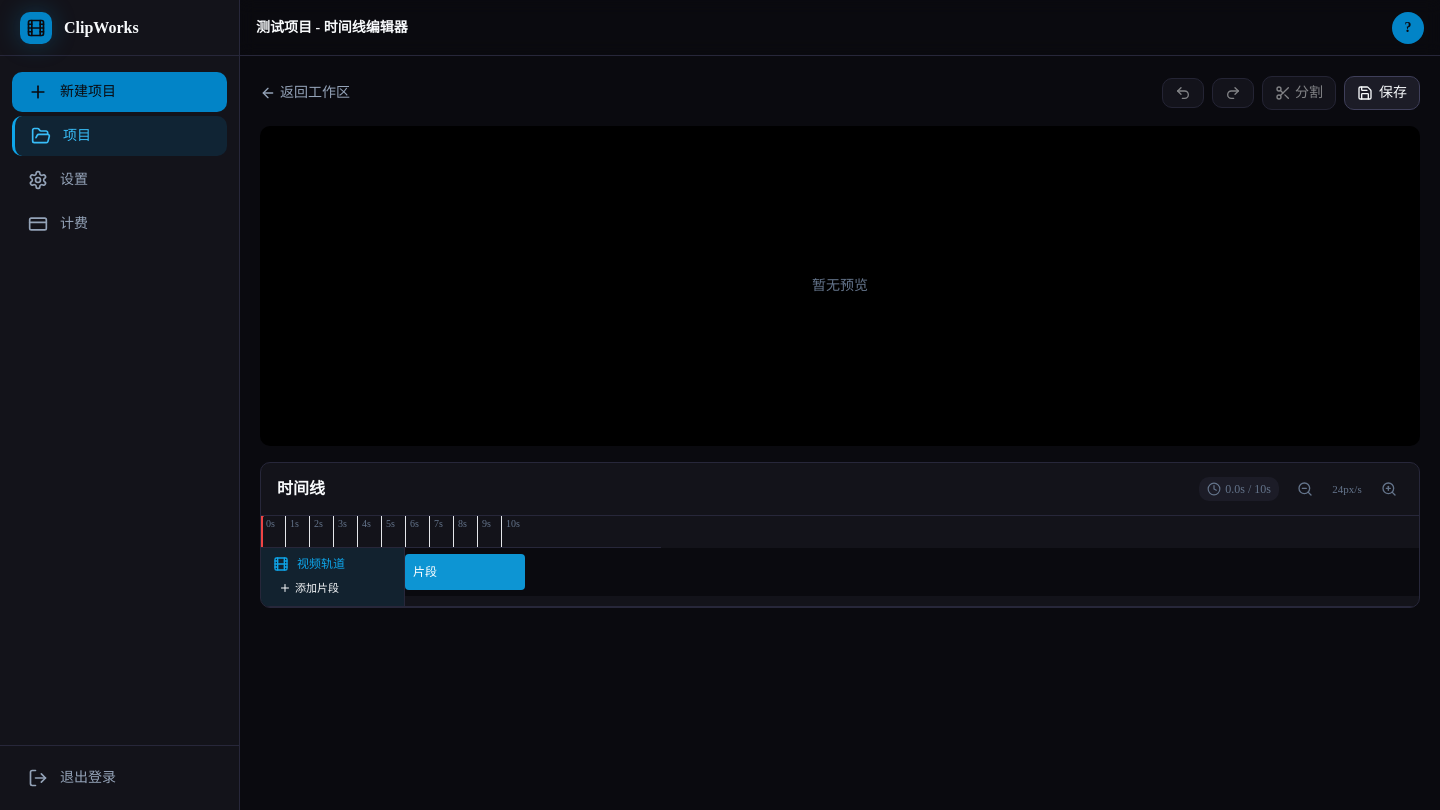
it: EditorPage › saves composition and shows success status
The image size is (1440, 810).
Click the button "保存". click: {"x": 1382, "y": 93}
box: [1344,76,1420,110]
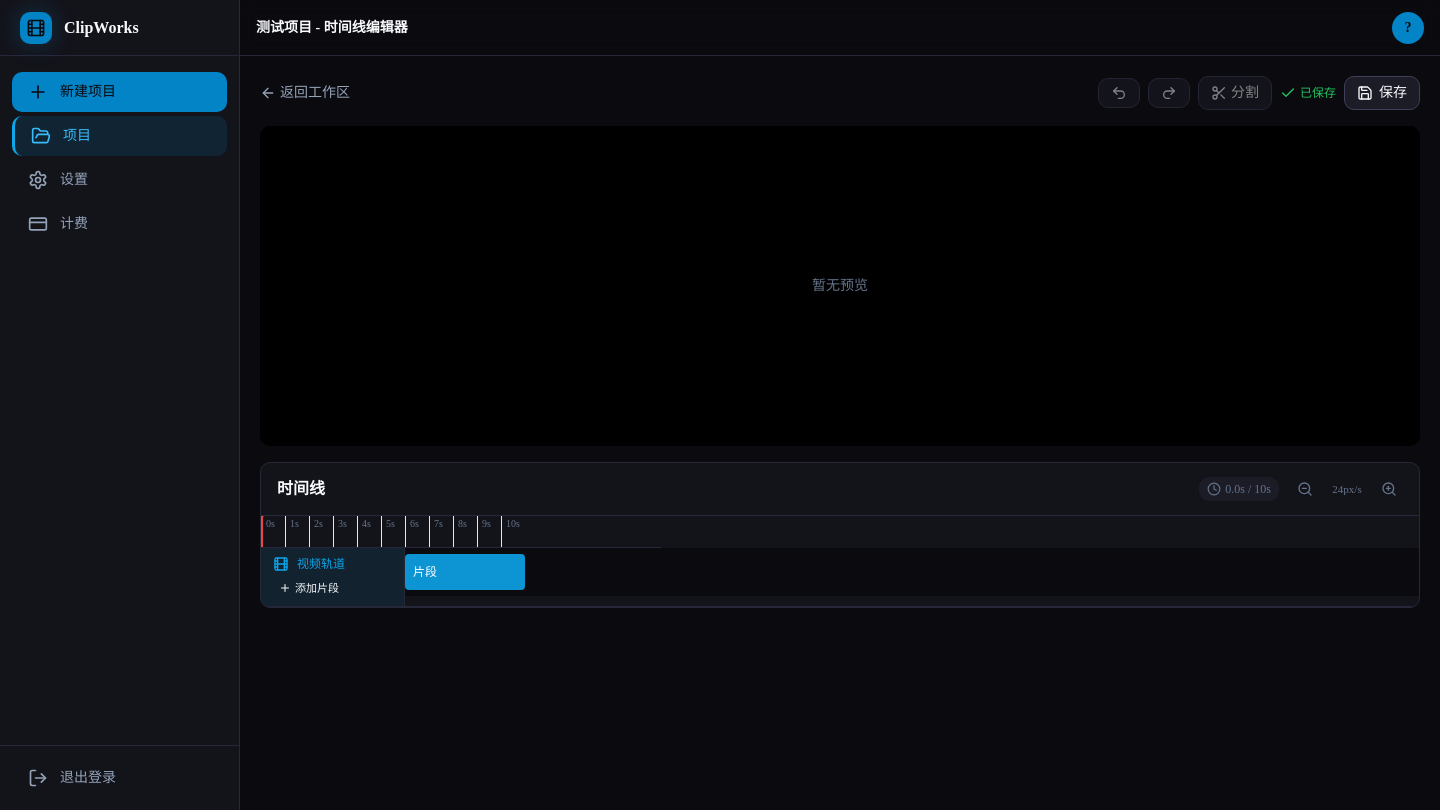
Expected: the text "已保存" is shown, [1280,85,1336,101]
